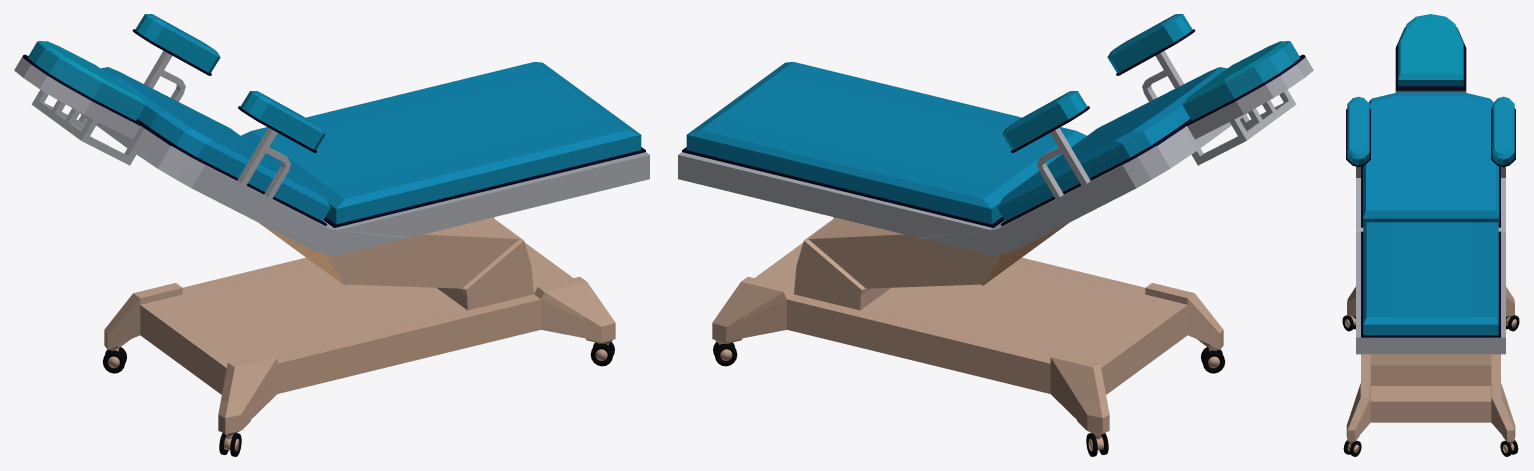
The model's file is MEDBed_v2.fbx.
3 views of the same model, side by side, from view 1: azimuth 30°, elevation 25°; view 2: azimuth 150°, elevation 25°; view 3: azimuth 270°, elevation 25° (orthographic). The views are drawn at different scales.
Parts seen in each view (by area): view 1: MEDBed_v2; view 2: MEDBed_v2; view 3: MEDBed_v2.
Boxes of the visible parts, x1=… form: MEDBed_v2: x1=14, y1=14, x2=649, y2=456; MEDBed_v2: x1=678, y1=14, x2=1313, y2=456; MEDBed_v2: x1=1342, y1=14, x2=1519, y2=456.
Bounding box in the file's own units: 403 × 266 × 157.
Materials: 1 (1 with a texture image).
